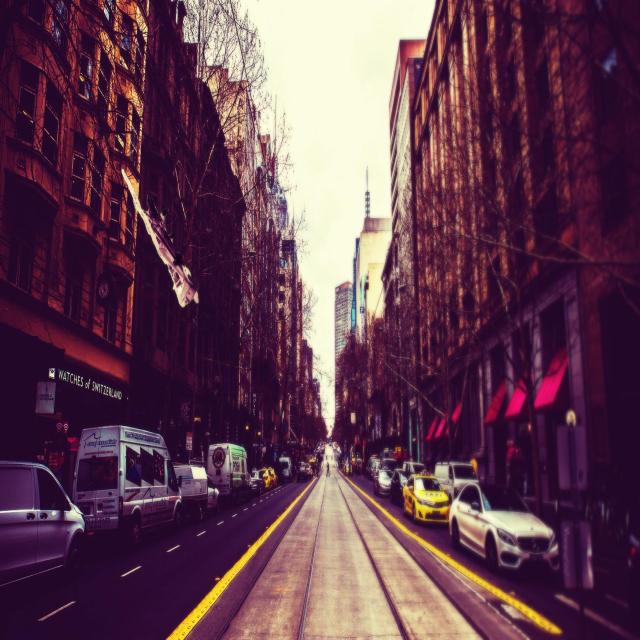airplane: (120, 166, 200, 309)
